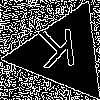K: (37, 28, 80, 78)
